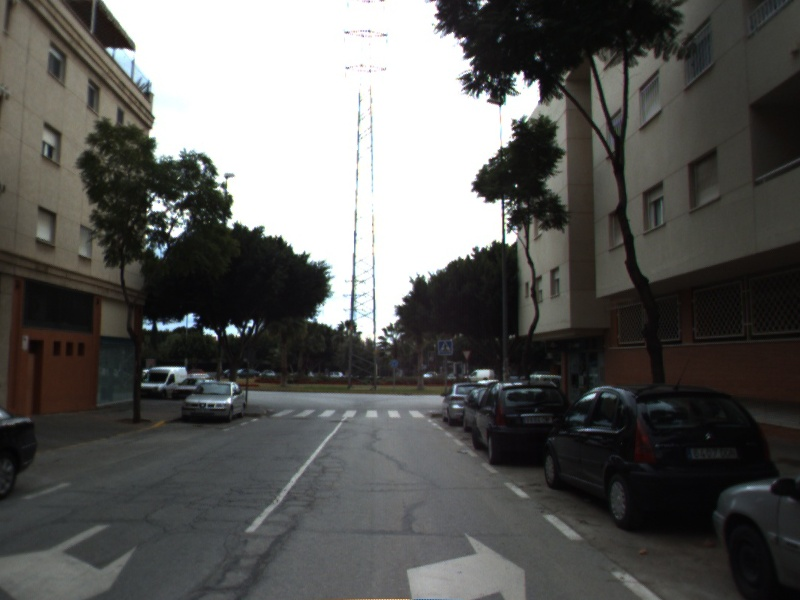RIGHT: (402, 528, 528, 600)
